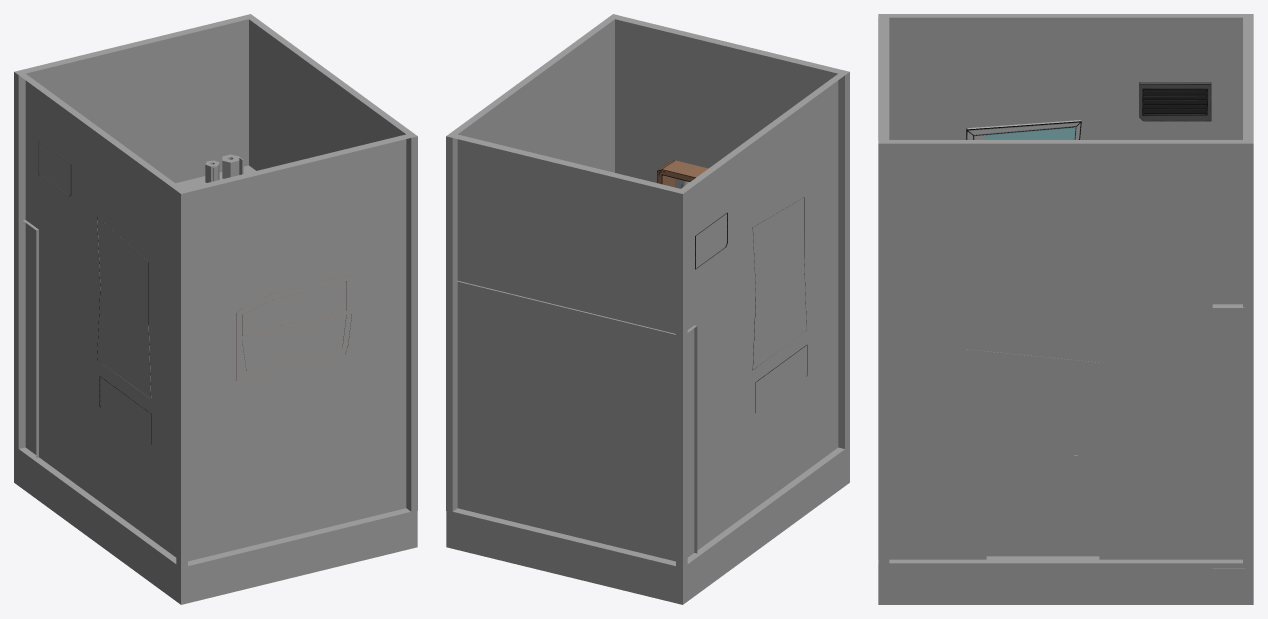
Rendered from Taverne_wc.fbx.
3 renders of one model, left to right at view 1: azimuth 30°, elevation 25°; view 2: azimuth 150°, elevation 25°; view 3: azimuth 270°, elevation 25°, orthographic. The views are drawn at different scales.
Visible parts, largest first — view 1: mur_face, mur_L, mur_fond, mur_R, sol, demi_mur, Etagere_toilette; view 2: mur_fond, mur_L, mur_face, mur_R, sol, demi_mur, Etagere_toilette; view 3: mur_R, mur_L, porte_R2, sol, mur_face, mur_fond, grille_aeration, Miroir.
Part boxes in pixels (x1,y1,x2,y2): mur_face: [176, 134, 415, 568]; mur_L: [14, 70, 187, 567]; mur_fond: [14, 14, 254, 449]; mur_R: [245, 14, 417, 511]; sol: [14, 446, 417, 604]; demi_mur: [23, 165, 255, 457]; Etagere_toilette: [236, 275, 351, 380]; mur_fond: [447, 133, 687, 567]; mur_L: [676, 70, 845, 568]; mur_face: [609, 14, 849, 449]; mur_R: [446, 14, 617, 512]; sol: [446, 446, 849, 604]; demi_mur: [457, 280, 697, 553]; Etagere_toilette: [657, 160, 708, 187]; mur_R: [878, 140, 1253, 559]; mur_L: [878, 14, 1253, 139]; porte_R2: [967, 349, 1099, 556]; sol: [878, 556, 1253, 604]; mur_face: [878, 14, 889, 564]; mur_fond: [1243, 14, 1253, 564]; grille_aeration: [1139, 82, 1211, 121]; Miroir: [966, 120, 1081, 139].
Bounding box in the file's own units: 233 × 386 × 285.
